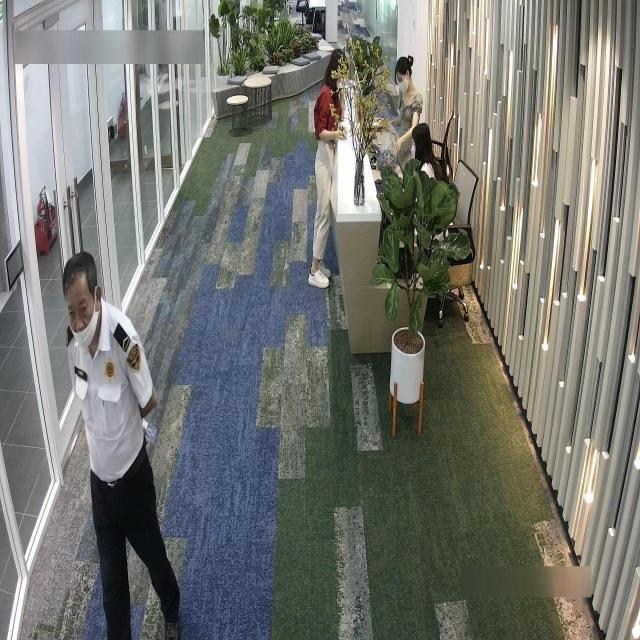hairnet: (68, 317, 102, 350)
